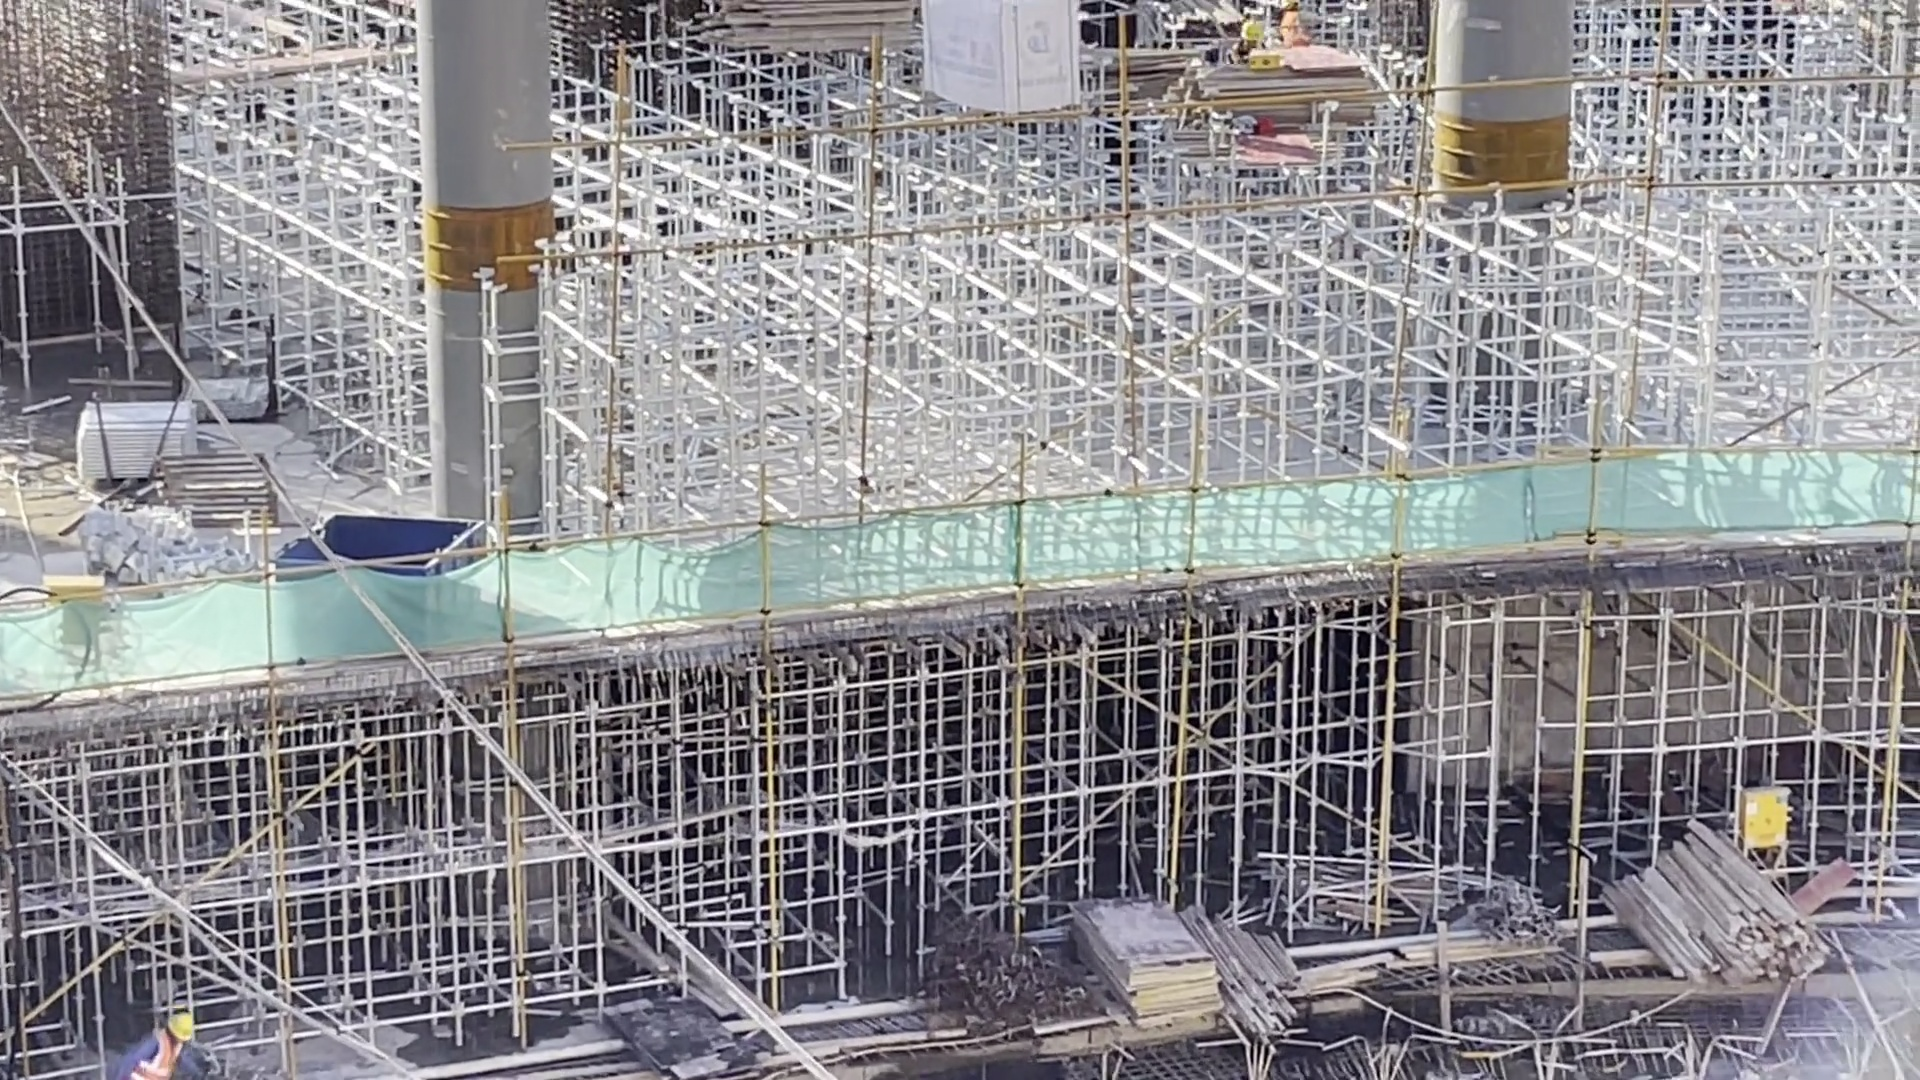board: (1074, 893, 1225, 1024), (1199, 35, 1375, 132)
ebox: (1733, 776, 1791, 858), (43, 572, 106, 594)
helmet: (167, 1014, 197, 1045)
hopper: (314, 502, 495, 550)
person: (113, 1011, 201, 1080)
vest: (127, 1031, 187, 1080)
wood: (1601, 819, 1837, 982), (678, 4, 919, 64), (1224, 931, 1303, 1050)
